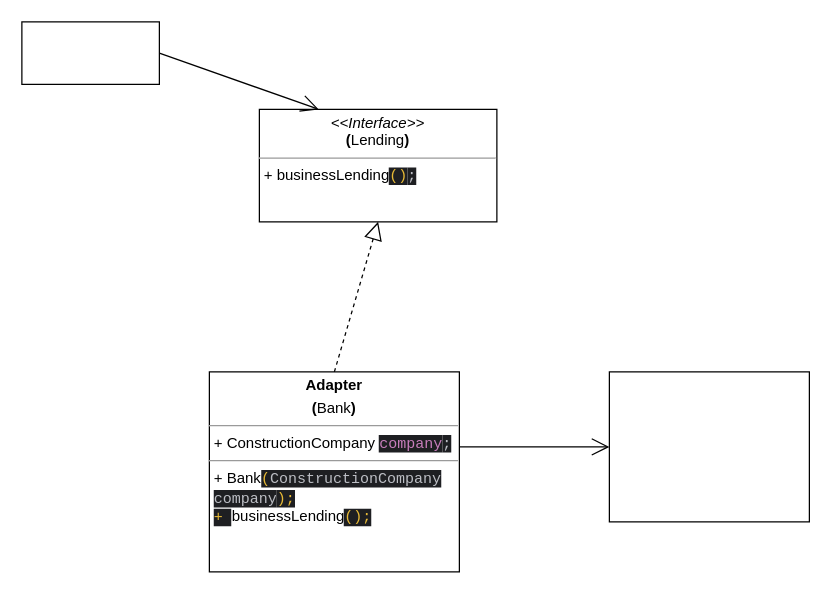
The diagram is 831 pixels wide and 594 high, and some of its shapes have lost their labels. The shapes that lost their labels are listed below. From the top down, each one's centre as x and y in pixels, then its label:
At (x=90, y=52): "Object".
At (x=708, y=446): "Service ( ConstructionCompany ) + houseConstruction (); + houseSelling ();".
